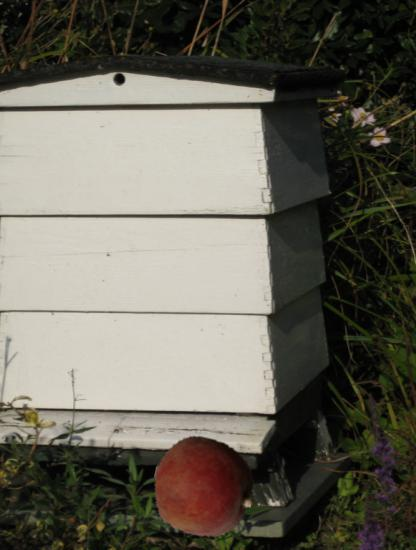Peach: (153, 436, 254, 537)
